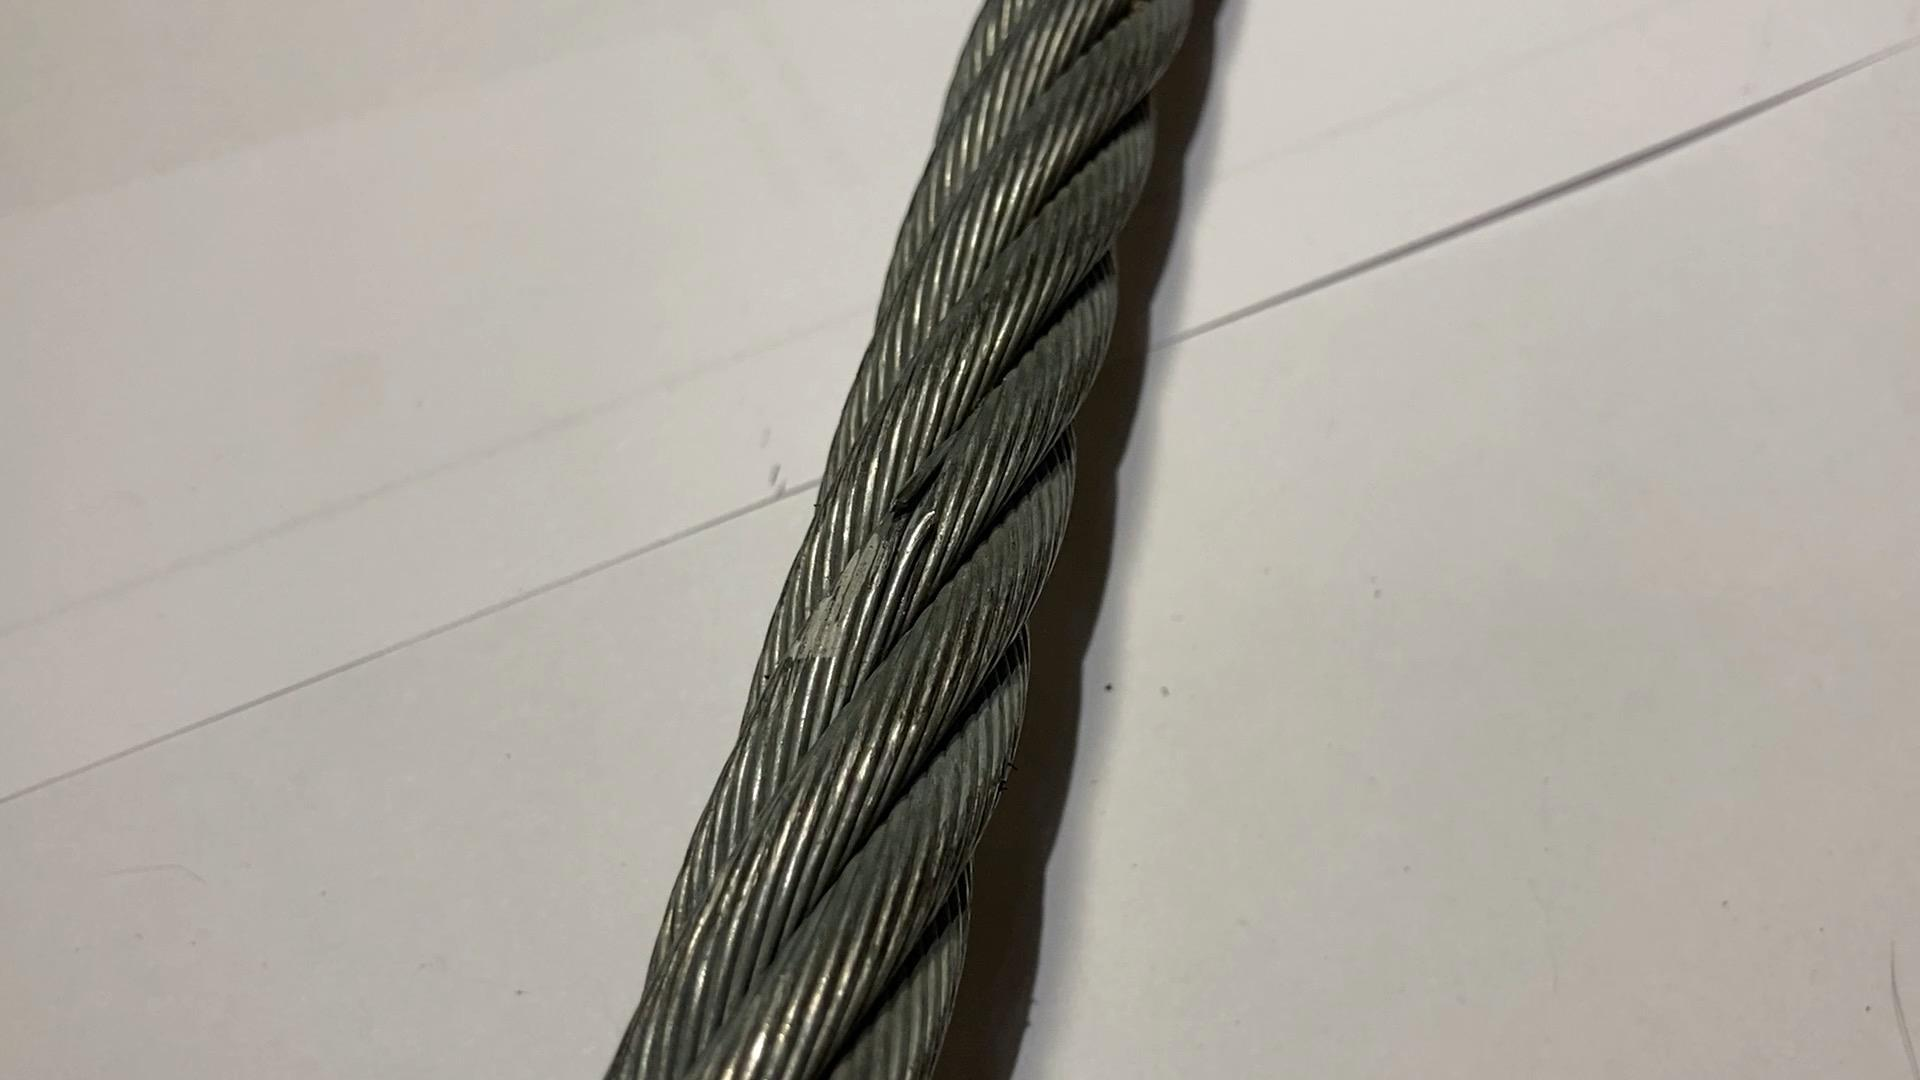break: (880, 450, 963, 538)
